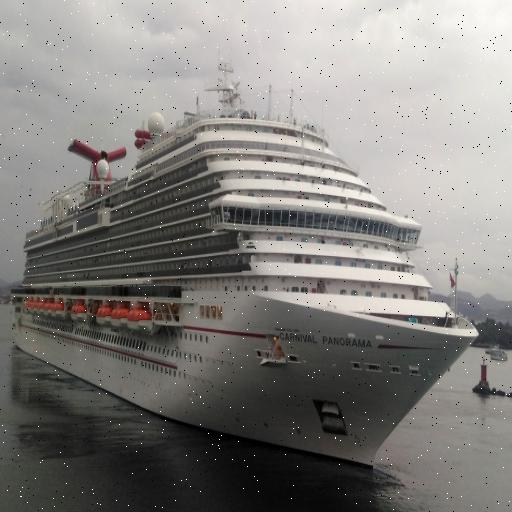cruises: (10, 62, 481, 488)
